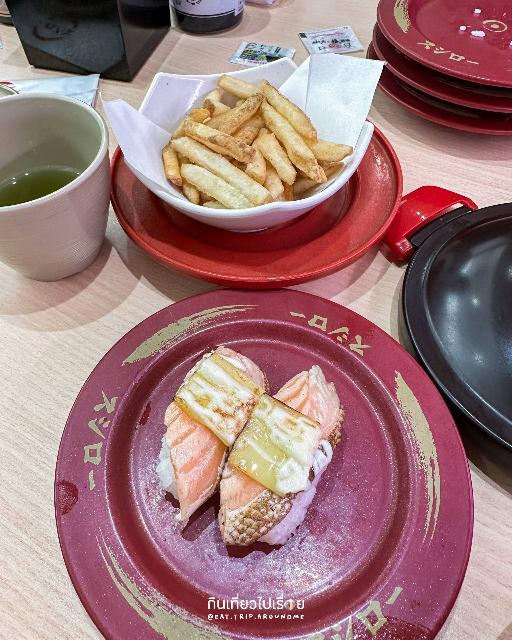janred: (79, 296, 451, 625), (98, 127, 426, 278), (363, 68, 512, 148), (361, 35, 512, 112), (387, 0, 512, 90)
